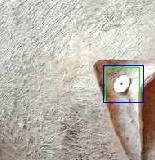text: (105, 67, 139, 102)
